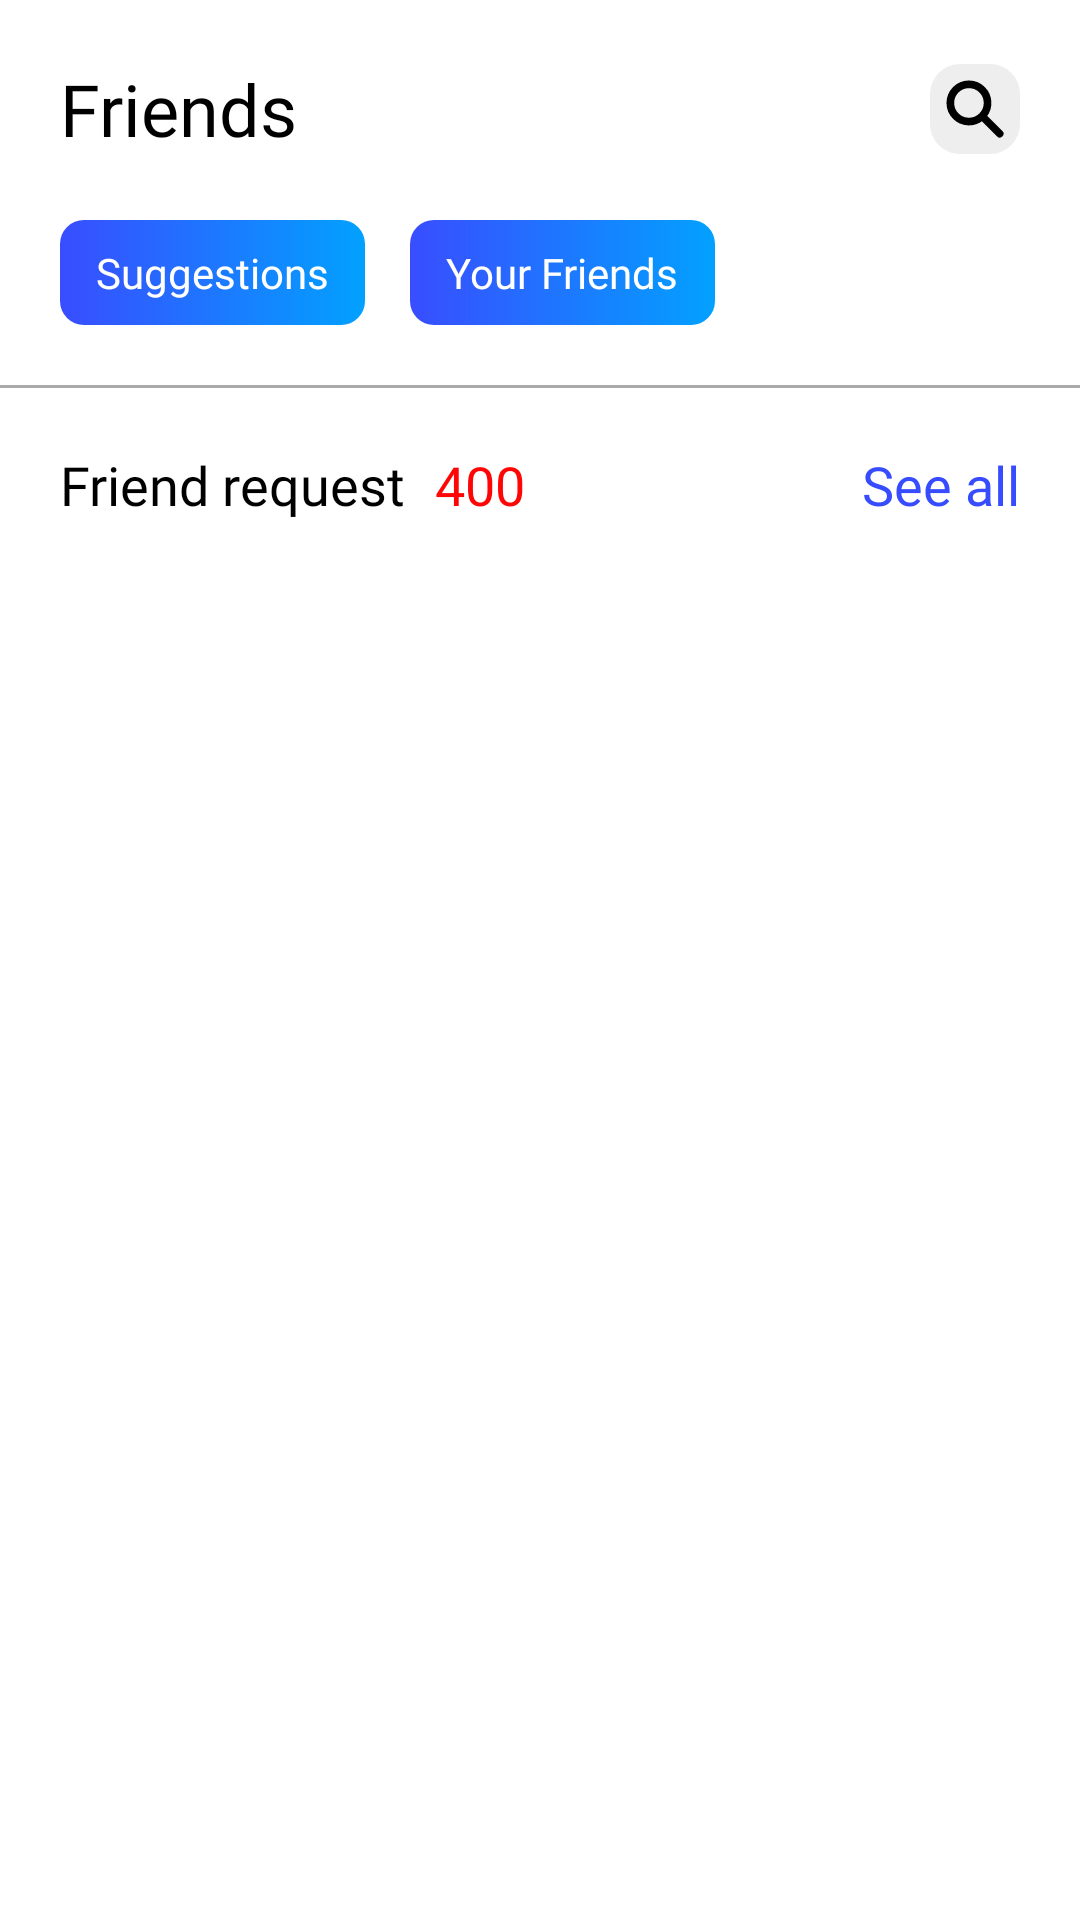

Icon click points for this 1080x1920 phone screenshot, format point (x, y):
search: point (975, 109)
